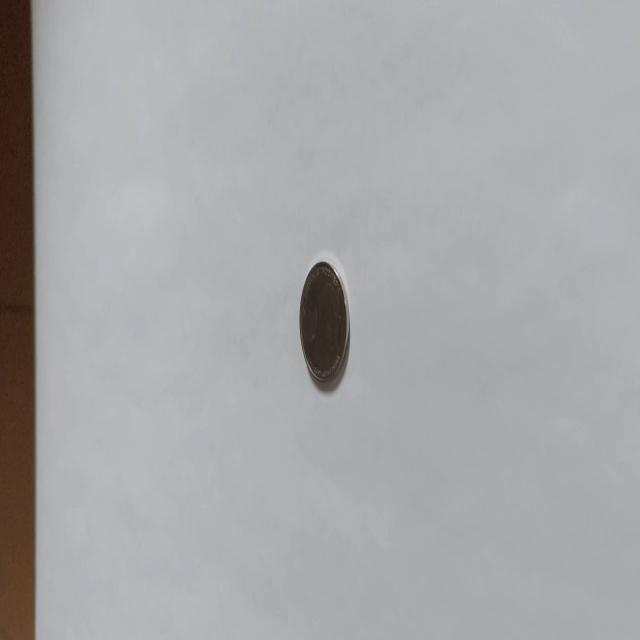seribu rupiah koin: (298, 257, 350, 386)
